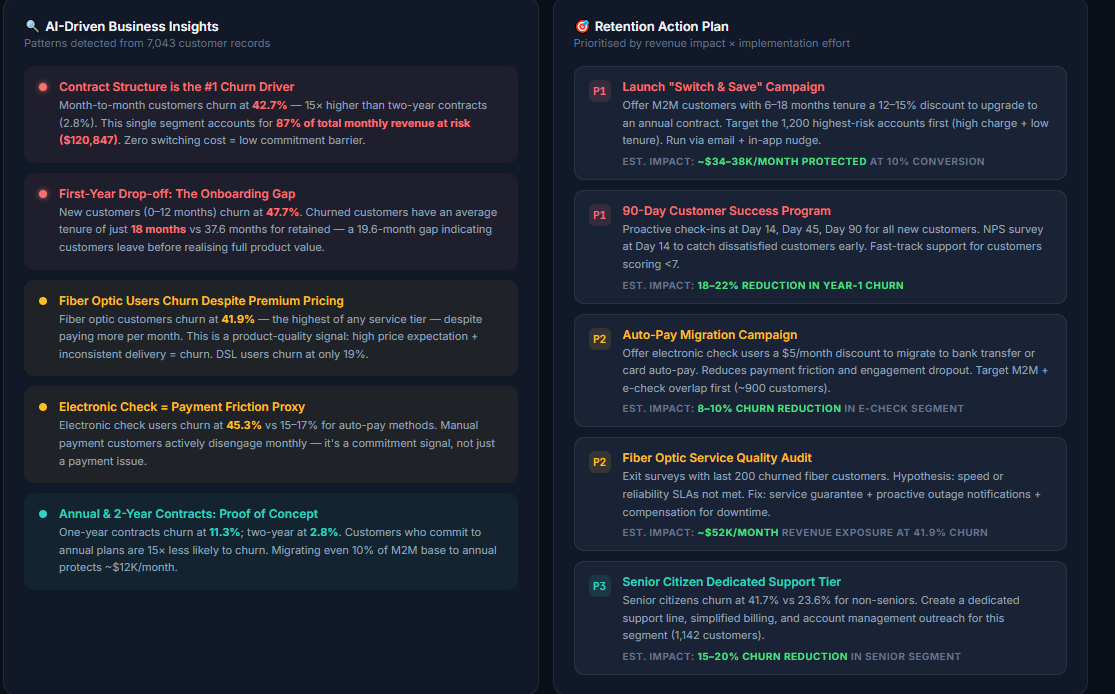

This screenshot's page, from the dashboard's own definition file:
{"tool":"powerbi","page":{"name":"Page 3","canvas":[1280,720],"ordinal":2},"visuals":[{"type":"textbox","box":[16,96,560,320],"z":0},{"type":"textbox","box":[640,96,624,320],"z":1000},{"type":"textbox","box":[304,448,720,272],"z":2000},{"type":"textbox","box":[0,0,1280,80],"z":3000},{"type":"image","box":[0,0,112,80],"z":4000}]}

Visuals, with their boxes on the page's 1280x720 design canvas (x1, y1, x2, y2). These are canvas units, not pixel positions in the 1115x694 screenshot, which may show the page scaled, cropped or inside an application window:
textbox: l=16, t=96, r=576, b=416
textbox: l=640, t=96, r=1264, b=416
textbox: l=304, t=448, r=1024, b=720
textbox: l=0, t=0, r=1280, b=80
image: l=0, t=0, r=112, b=80
